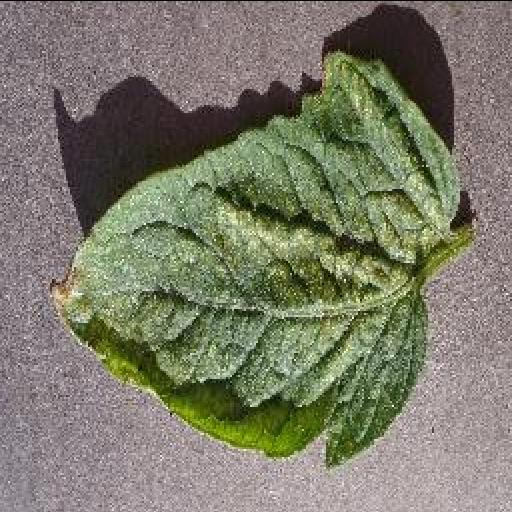disease_tomato: (48, 50, 462, 468)
